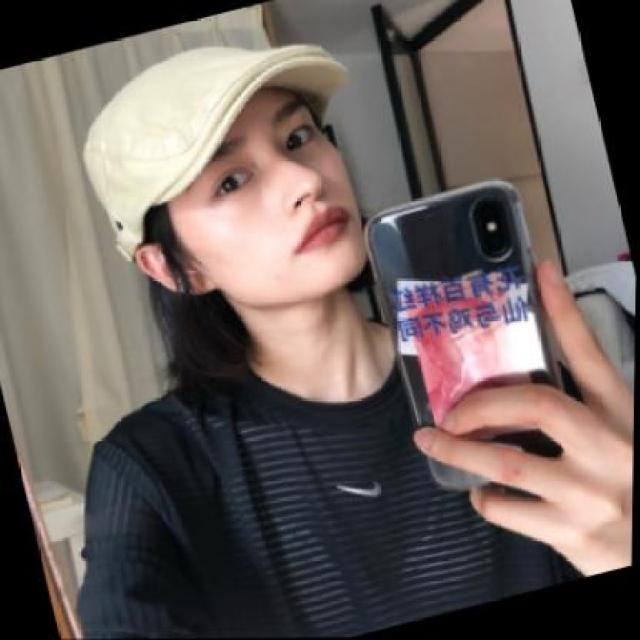hat: (82, 42, 348, 258)
